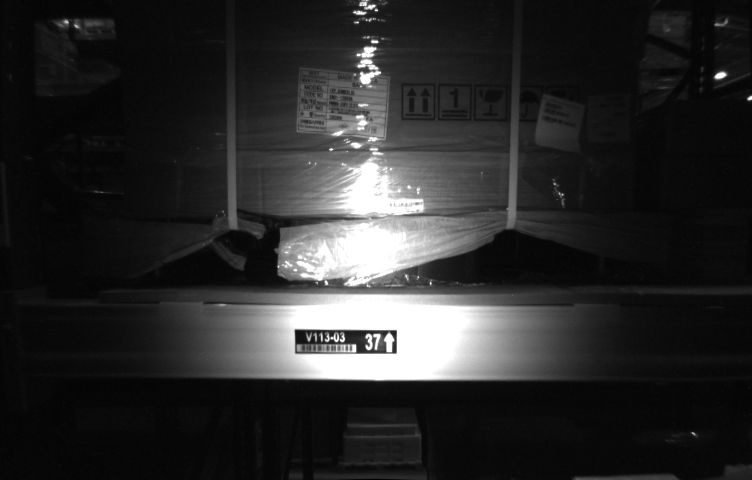True Barcode: (588, 94, 630, 143)
